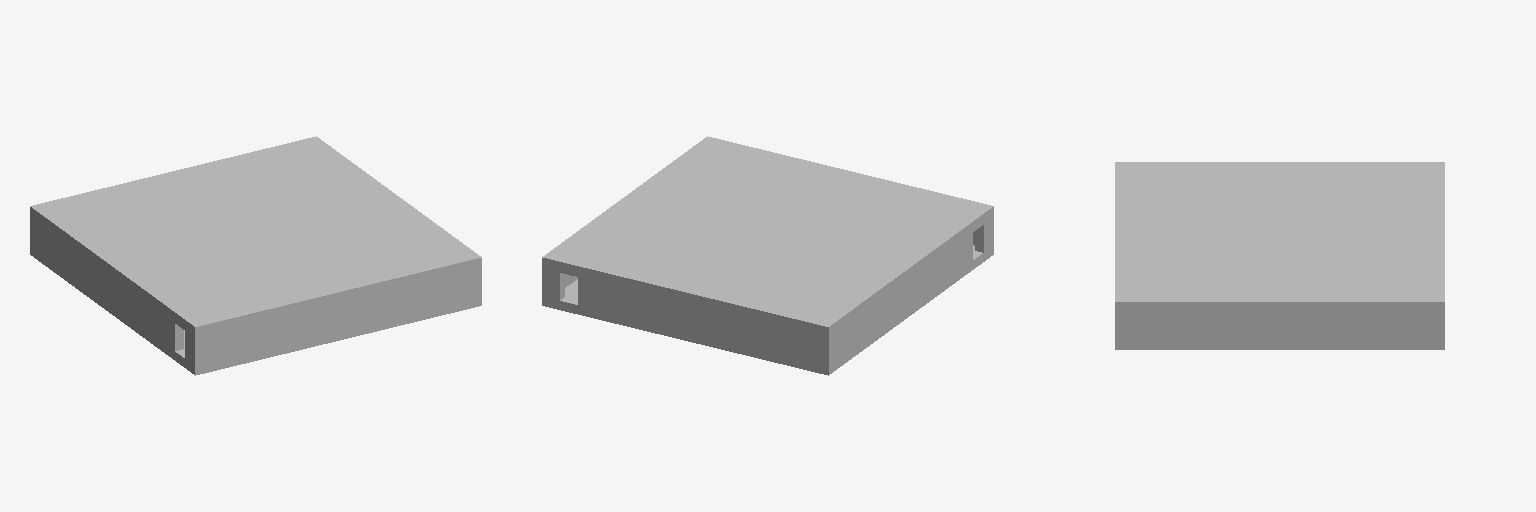
The model's file is new_ivan_corridor_flat.obj.
3 renders of one model, left to right at view 1: azimuth 30°, elevation 25°; view 2: azimuth 150°, elevation 25°; view 3: azimuth 270°, elevation 25°, orthographic.
Visible parts, largest first — view 1: object 1; view 2: object 1; view 3: object 1.
Boxes of the visible parts, box(x1,y1,x2,y2) form: object 1: box(30, 136, 481, 375); object 1: box(542, 136, 993, 375); object 1: box(1115, 162, 1444, 349).
Size of the model in its own units: 19.2 by 3.1 by 19.2.